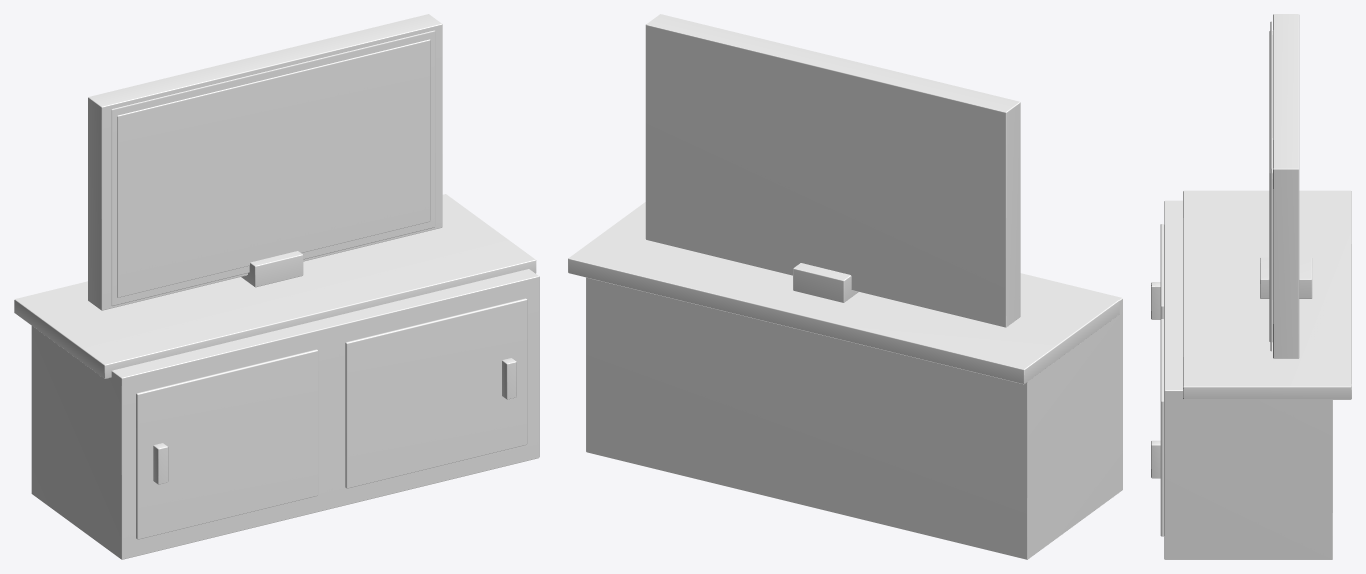
Rendered from tv_unit.glb.
The picture shows the model from 3 angles, left to right: view 1: azimuth 30°, elevation 25°; view 2: azimuth 150°, elevation 25°; view 3: azimuth 270°, elevation 25°; orthographic projection. The views are drawn at different scales.
Visible parts, largest first — view 1: TvUnit; view 2: TvUnit; view 3: TvUnit.
Boxes of the visible parts, x1,y1,x2,y2 form: TvUnit: (14, 14, 539, 559); TvUnit: (568, 14, 1122, 559); TvUnit: (1151, 14, 1351, 559).
Bounding box in the file's own units: 1.24 × 1.1 × 0.535.
1 material, 1 textured.
